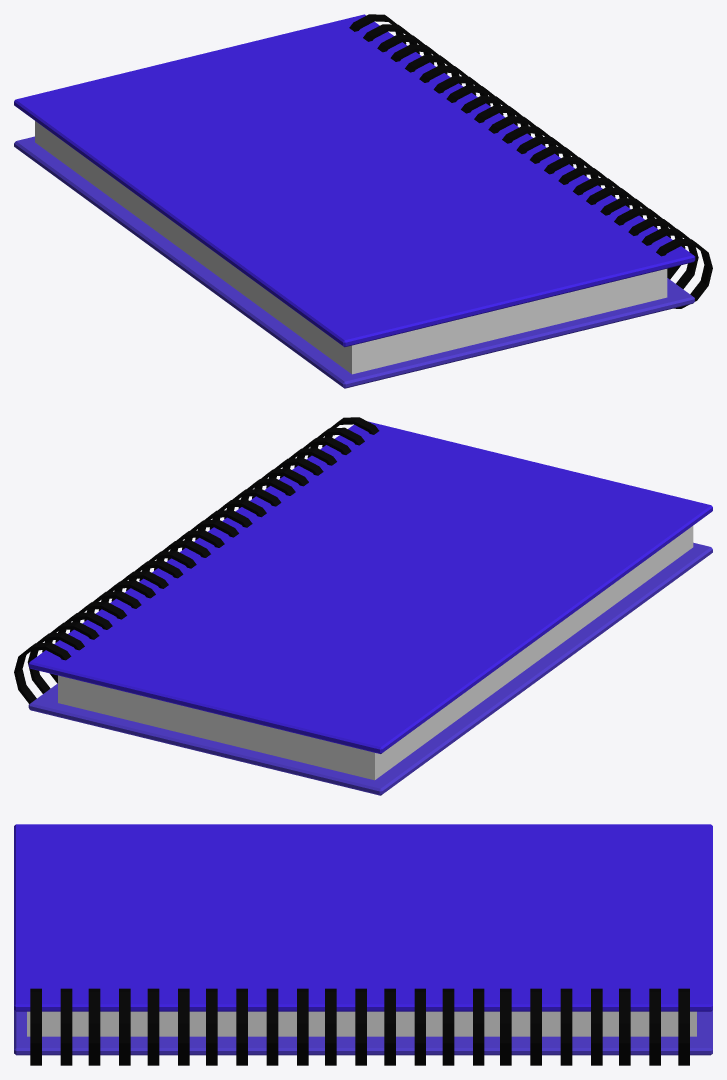
File: bloc_note.fbx
The picture shows the model from 3 angles, top to bottom: view 1: azimuth 30°, elevation 25°; view 2: azimuth 150°, elevation 25°; view 3: azimuth 270°, elevation 25°; orthographic projection. The views are drawn at different scales.
Parts seen in each view (by area): view 1: Cube.001, Cube, Cube.002, Cylinder.001; view 2: Cube.001, Cube, Cube.002, Cylinder.001; view 3: Cube.001, Cylinder.001, Cube, Cube.002.
Part boxes in pixels (box(x1,y1,x2,y2)): Cube.001: box(14, 14, 695, 347); Cube: box(35, 121, 667, 374); Cube.002: box(14, 136, 694, 388); Cylinder.001: box(349, 14, 712, 308); Cube.001: box(28, 421, 712, 753); Cube: box(58, 526, 693, 780); Cube.002: box(28, 542, 712, 795); Cylinder.001: box(14, 417, 379, 703); Cube.001: box(14, 824, 712, 1011); Cylinder.001: box(30, 988, 689, 1065); Cube: box(27, 1011, 696, 1036); Cube.002: box(14, 1010, 712, 1055).
Size of the model in its own units: 676 by 114 by 1027.
